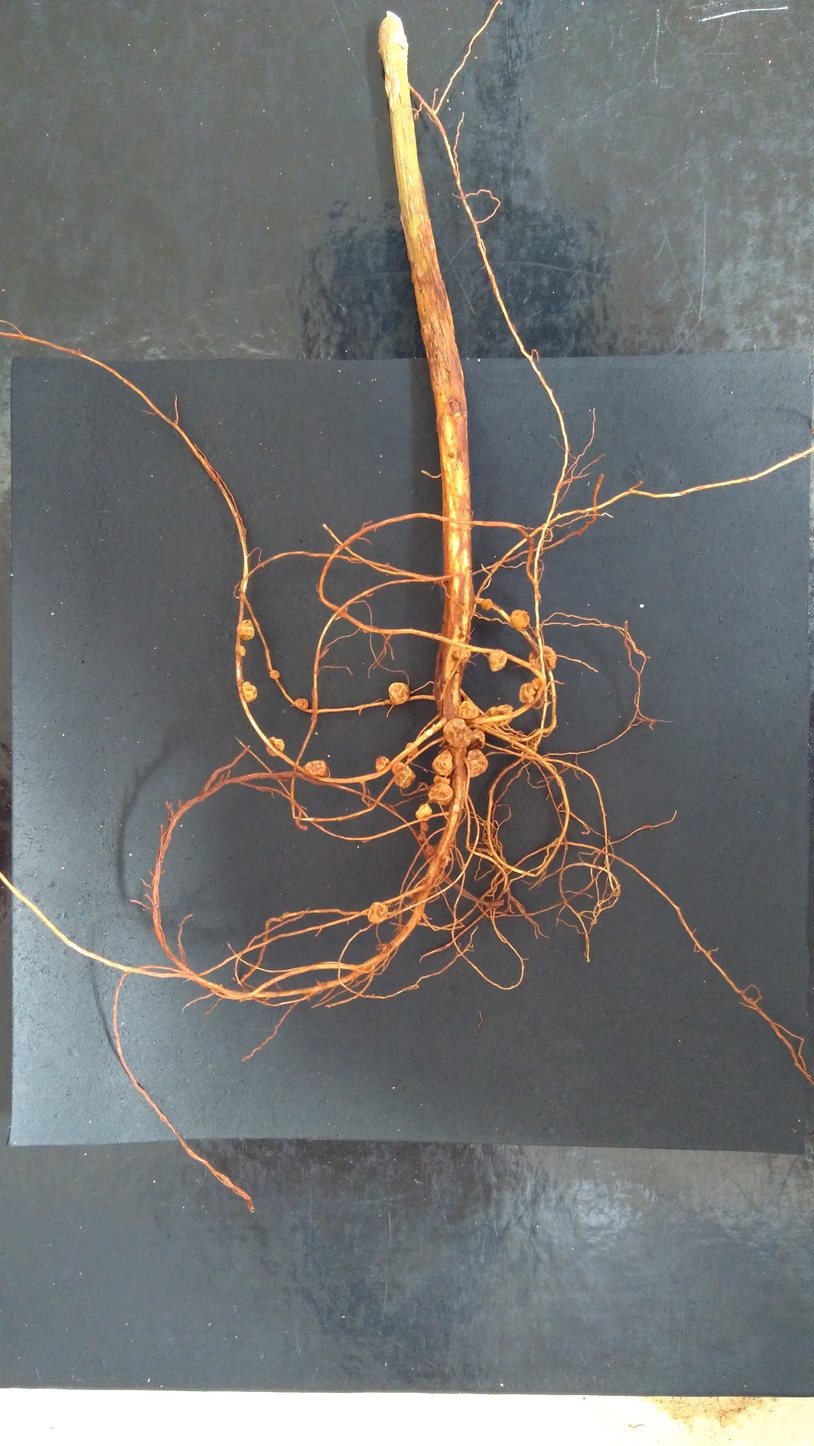nodule: (442, 718, 476, 750), (527, 641, 559, 674), (483, 701, 516, 729), (426, 779, 457, 807), (465, 747, 490, 781), (390, 762, 416, 790), (431, 749, 455, 777), (233, 617, 257, 643), (388, 681, 412, 706), (509, 606, 531, 633), (488, 648, 509, 676), (455, 700, 482, 721), (302, 759, 333, 777), (367, 901, 390, 925), (517, 680, 538, 705), (240, 678, 259, 704), (266, 735, 286, 758), (414, 802, 434, 823), (451, 647, 472, 664), (470, 728, 486, 750), (374, 754, 390, 772), (431, 774, 453, 787), (291, 697, 310, 712), (406, 741, 419, 758), (233, 644, 247, 658), (268, 668, 282, 681), (481, 598, 493, 612), (424, 845, 437, 857), (419, 821, 430, 834), (416, 832, 426, 843), (533, 678, 540, 690)
